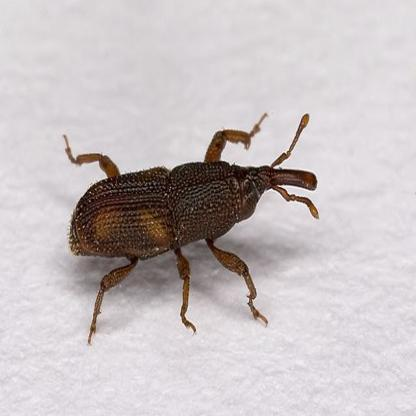rice-bug: (68, 114, 320, 327)
